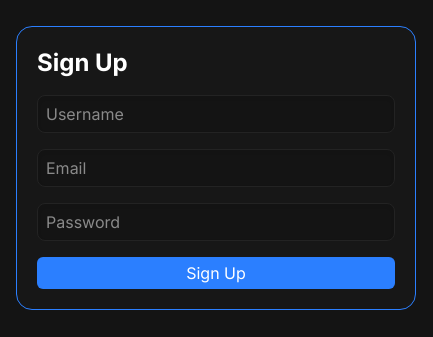
Test case: SignUp › should return validation error on submittiong form with invalid email
The image size is (433, 337).
Type "testUser" into the field with placeholder "Username" at (216, 114), box top-left (46, 104), bottom-right (386, 124)
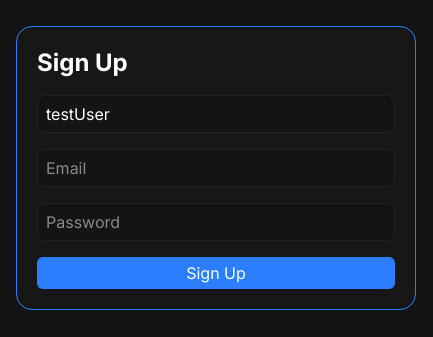
Type "testEmail" into the field with placeholder "Email" at (216, 168), box top-left (46, 158), bottom-right (386, 178)
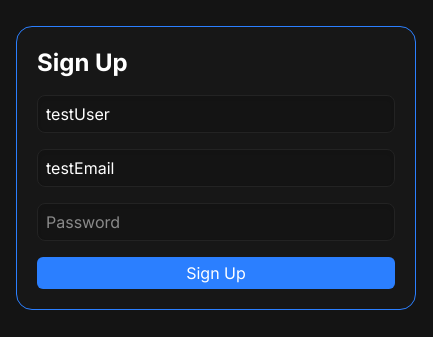
Type "testPassword1" into the password field with placeholder "Password" at (216, 222), box top-left (46, 212), bottom-right (386, 232)
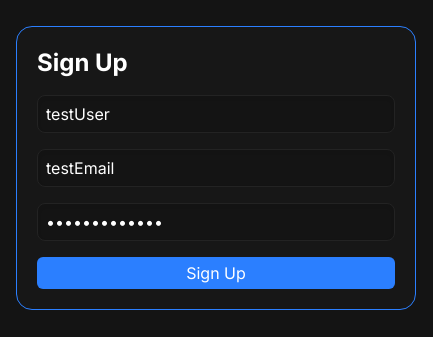
Click the button at (216, 273), box top-left (37, 257), bottom-right (395, 289)
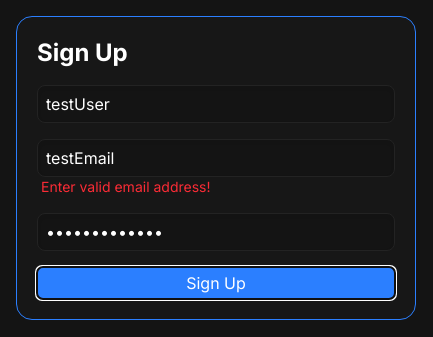
Result: the text "Enter valid email address!" is shown at top-left (41, 178), bottom-right (210, 195)
